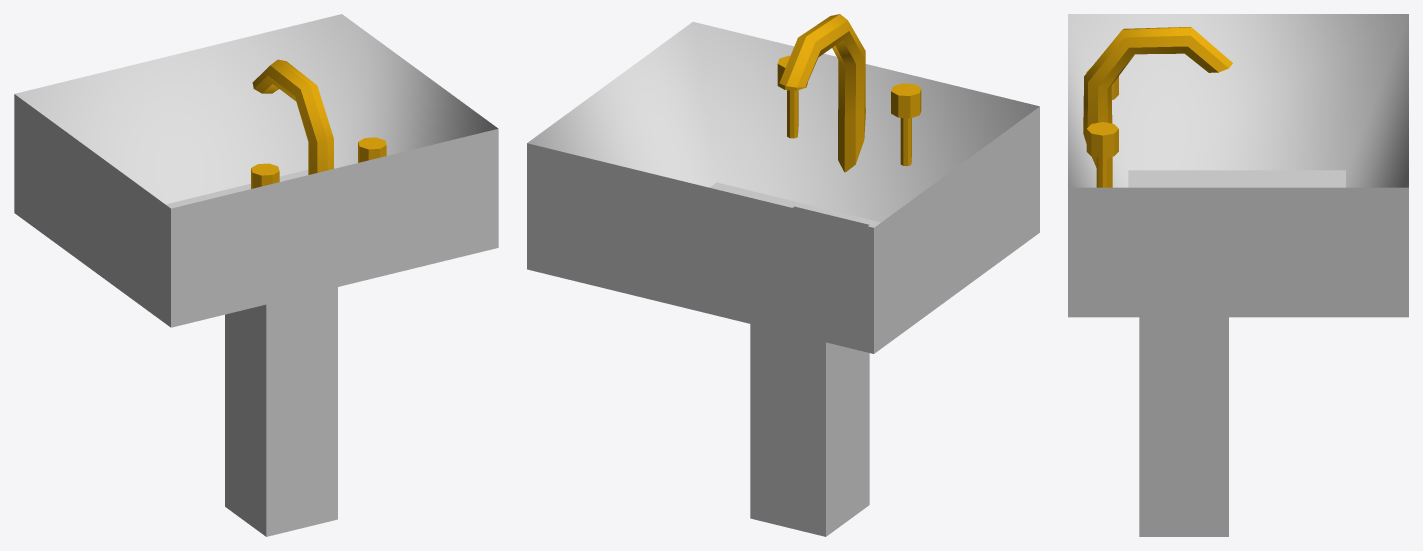
Rendered from sink.fbx.
3 renders of one model, left to right at view 1: azimuth 30°, elevation 25°; view 2: azimuth 150°, elevation 25°; view 3: azimuth 270°, elevation 25°, orthographic. The views are drawn at different scales.
Parts seen in each view (by area): view 1: pCube1, pCylinder1, pCylinder2, pCylinder3; view 2: pCube1, pCylinder1, pCylinder3, pCylinder2; view 3: pCube1, pCylinder1, pCylinder2.
Boxes of the visible parts, x1=… form: pCube1: x1=14, y1=14, x2=498, y2=536; pCylinder1: x1=252, y1=59, x2=333, y2=174; pCylinder2: x1=358, y1=137, x2=386, y2=162; pCylinder3: x1=251, y1=163, x2=279, y2=188; pCube1: x1=527, y1=21, x2=1039, y2=536; pCylinder1: x1=779, y1=14, x2=865, y2=172; pCylinder3: x1=891, y1=83, x2=921, y2=166; pCylinder2: x1=777, y1=55, x2=807, y2=138; pCube1: x1=1068, y1=14, x2=1408, y2=536; pCylinder1: x1=1083, y1=26, x2=1232, y2=187; pCylinder2: x1=1086, y1=122, x2=1118, y2=187.
Bounding box in the file's own units: 4.44 × 5.85 × 3.68.
